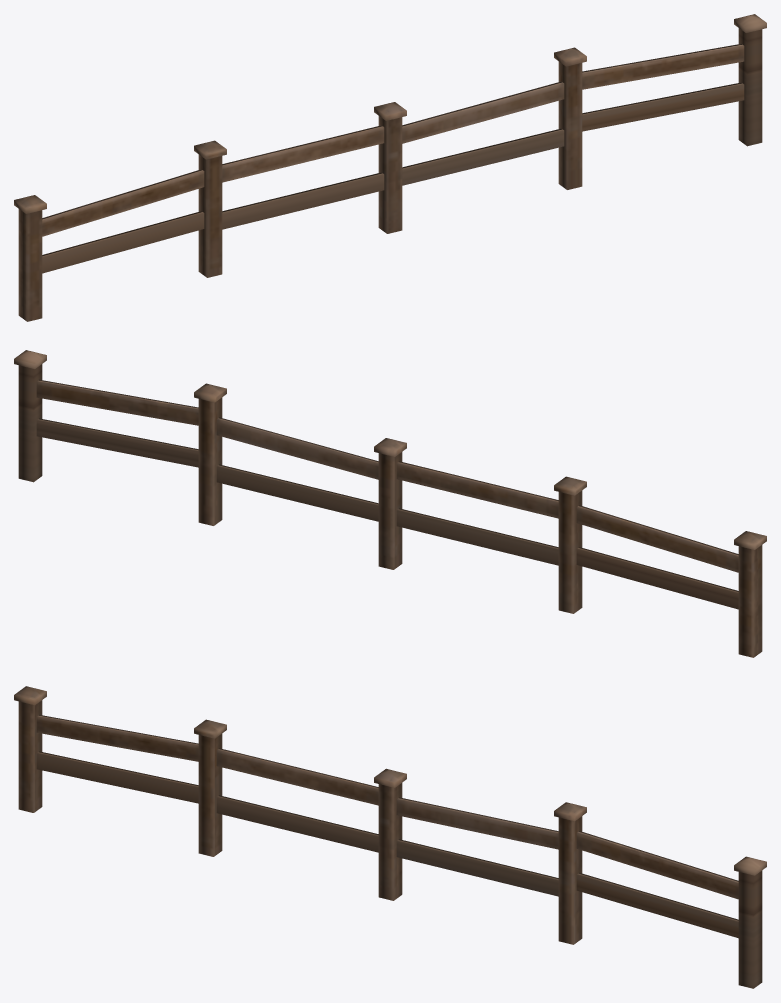
The model's file is objects_un_t01fence05.gltf.
The picture shows the model from 3 angles, top to bottom: view 1: azimuth 30°, elevation 25°; view 2: azimuth 150°, elevation 25°; view 3: azimuth 330°, elevation 25°; orthographic projection.
Visible parts, largest first — view 1: fence05_mesh2_lod0_shape:objects_un_t01fence05_01; view 2: fence05_mesh2_lod0_shape:objects_un_t01fence05_01; view 3: fence05_mesh2_lod0_shape:objects_un_t01fence05_01.
Part boxes in pixels (x1=…): fence05_mesh2_lod0_shape:objects_un_t01fence05_01: x1=14, y1=14, x2=766, y2=321; fence05_mesh2_lod0_shape:objects_un_t01fence05_01: x1=14, y1=350, x2=766, y2=657; fence05_mesh2_lod0_shape:objects_un_t01fence05_01: x1=14, y1=686, x2=766, y2=988.
Size of what is drawn, in the model's own units: 7.41 by 1.3 by 0.21.
1 material, 1 textured.
